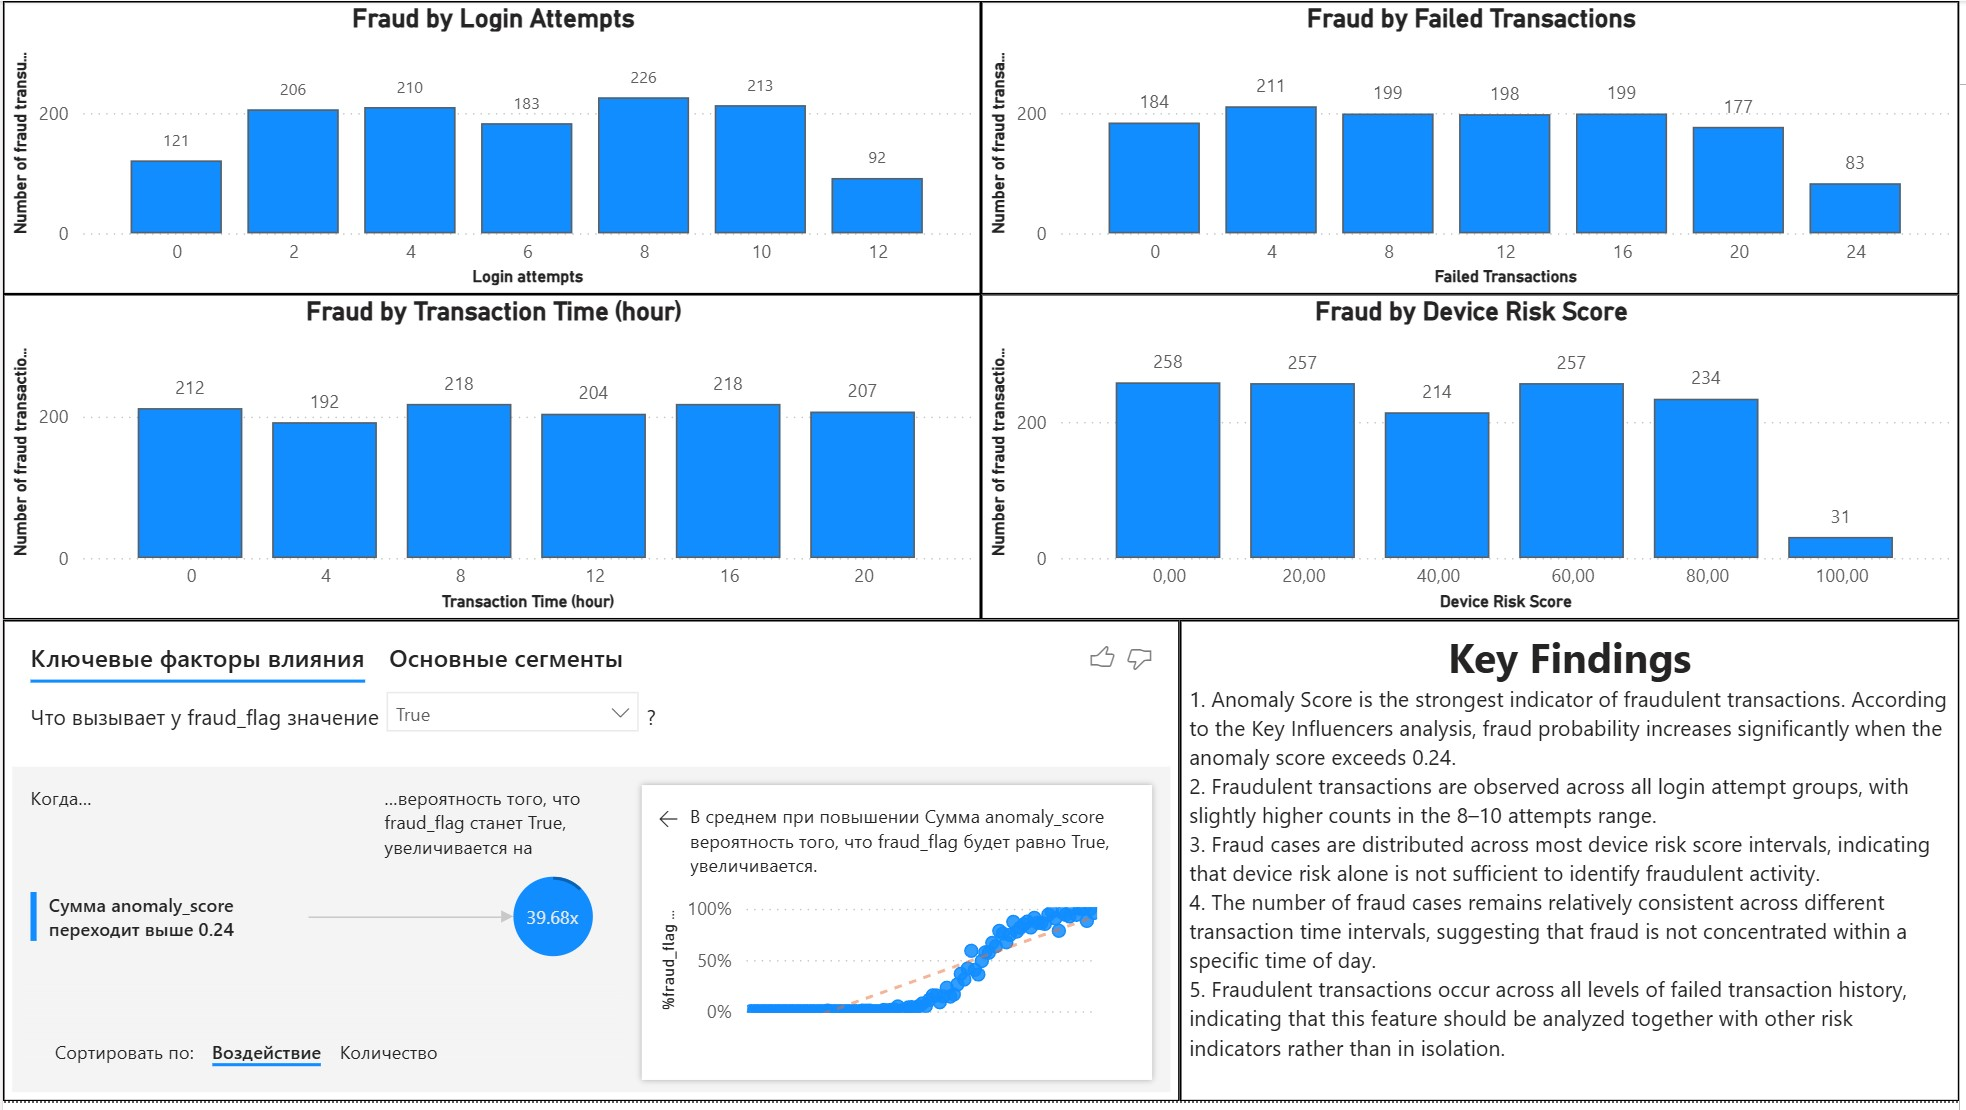

The dashboard page shown, as its layout file describes it:
{"tool":"powerbi","page":{"name":"Factors analysis","canvas":[1280,720],"ordinal":1},"visuals":[{"type":"clusteredColumnChart","title":"Fraud by Login Attempts","fields":{"Y":["CountNonNull(bank_trans_clean.fraud_flag)"],"Category":["bank_trans_clean.login_attempts (ячейки)"]},"box":[0,0,640,192],"z":0},{"type":"clusteredColumnChart","title":"Fraud by Device Risk Score ","fields":{"Y":["CountNonNull(bank_trans_clean.fraud_flag)"],"Category":["bank_trans_clean.device_risk_score (ячейки)"]},"box":[640,192,640,212.8],"z":1000},{"type":"clusteredColumnChart","title":"Fraud by Transaction Time (hour)","fields":{"Y":["CountNonNull(bank_trans_clean.fraud_flag)"],"Category":["bank_trans_clean.transaction_time_hour (ячейки)"]},"box":[0,192,640,212.8],"z":2000},{"type":"clusteredColumnChart","title":"Fraud by Failed Transactions","fields":{"Y":["CountNonNull(bank_trans_clean.fraud_flag)"],"Category":["bank_trans_clean.failed_transactions_last_30d (ячейки)"]},"box":[640,0,640,192],"z":3000},{"type":"keyDriversVisual","fields":{"Target":["bank_trans_clean.fraud_flag"],"ExplainBy":["Sum(bank_trans_clean.device_risk_score)","Sum(bank_trans_clean.transaction_time_hour)","bank_trans_clean.authentication_type","Sum(bank_trans_clean.account_age_days)","Sum(bank_trans_clean.anomaly_score)","Sum(bank_trans_clean.card_present_flag)","Sum(bank_trans_clean.login_attempts)","Sum(bank_trans_clean.international_transaction_flag)","Sum(bank_trans_clean.daily_transaction_count)","Sum(bank_trans_clean.avg_monthly_balance)","Sum(bank_trans_clean.geo_distance_km)","Sum(bank_trans_clean.suspicious_ip_flag)"]},"box":[0,404.8,769.7,315],"z":4000},{"type":"textbox","box":[770,405,510,315],"z":4001}]}

Visuals, with their boxes in screenshot pixels (x1, y1, x2, y2), scaled from the page's 1280x720 canvas onto the 1966x1110 screenshot:
"Fraud by Login Attempts" clusteredColumnChart: detection(0, 0, 983, 296)
"Fraud by Device Risk Score " clusteredColumnChart: detection(983, 296, 1965, 624)
"Fraud by Transaction Time (hour)" clusteredColumnChart: detection(0, 296, 983, 624)
"Fraud by Failed Transactions" clusteredColumnChart: detection(983, 0, 1965, 296)
keyDriversVisual - bank_trans_clean.fraud_flag x Sum(bank_trans_clean.device_risk_score): detection(0, 624, 1182, 1109)
textbox: detection(1183, 624, 1965, 1109)
